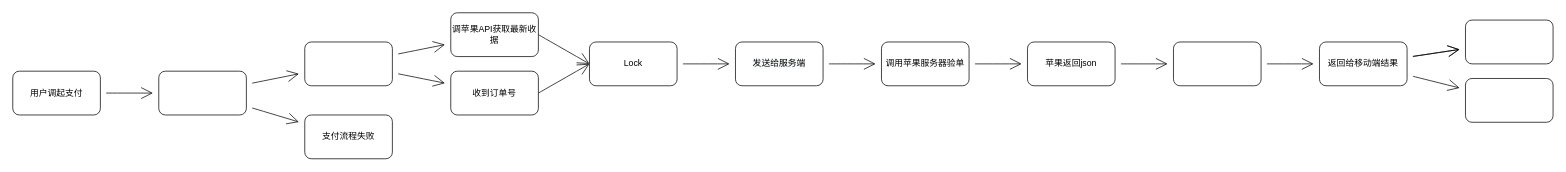
Image size: 1566x172. Some labels were removed from this diagram. Each missing label, with the centre of its shape:
失败：报错: point (1509, 100)
成功：UnLock: point (1509, 41)
支付流程完成: point (348, 63)
服务端从json中筛选订单号: point (1217, 63)
苹果支付流程: point (202, 92)
